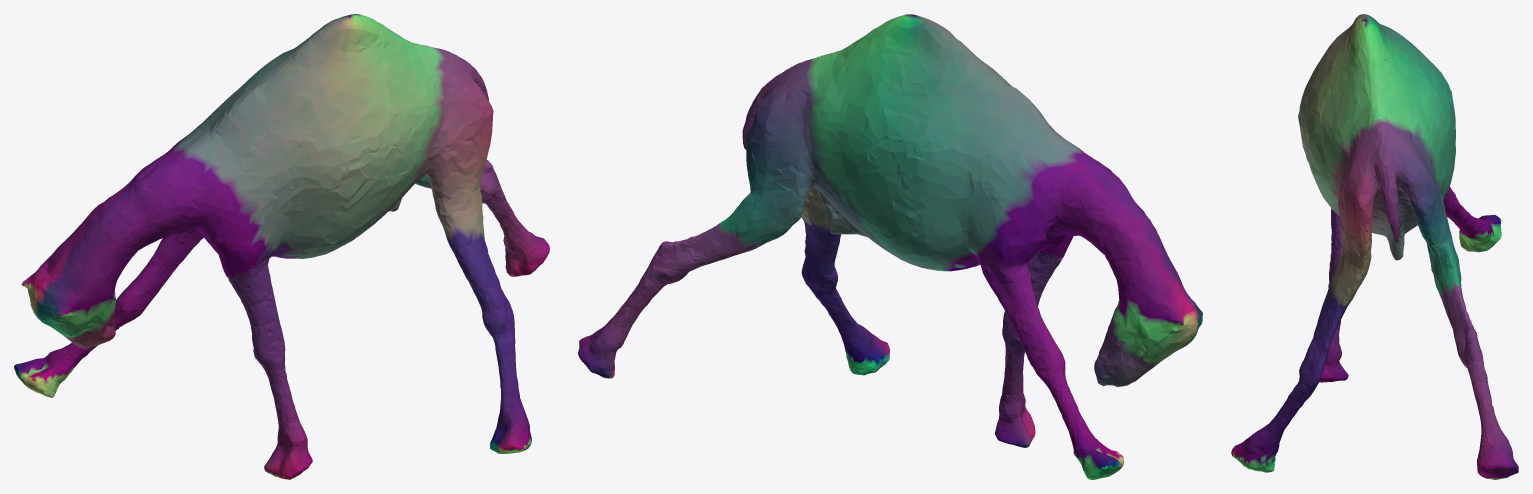
Rendered from camel-10.off.obj.
3 views of the same model, side by side, from view 1: azimuth 30°, elevation 25°; view 2: azimuth 150°, elevation 25°; view 3: azimuth 270°, elevation 25° (orthographic). The views are drawn at different scales.
Size of the model in its own units: 1.47 by 1.05 by 0.6839.
